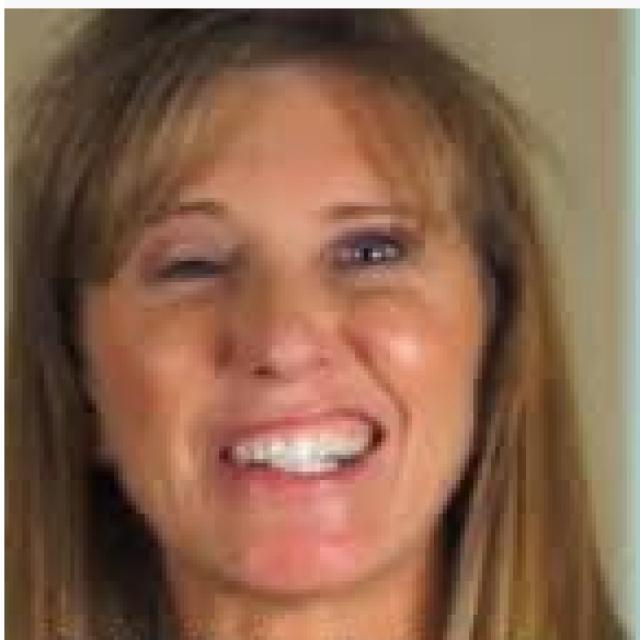stroke_face: (76, 59, 517, 597)
